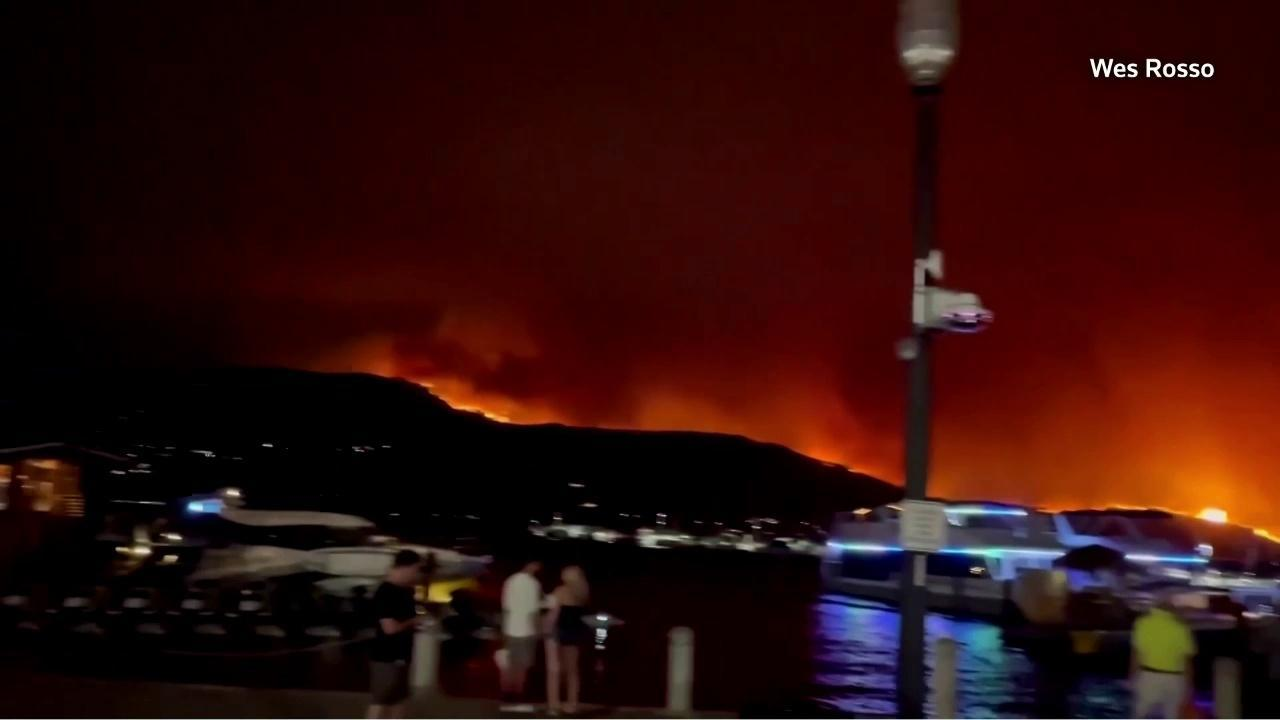fire: (411, 380, 513, 427), (1191, 502, 1229, 526)
smoke: (78, 0, 1280, 549)
